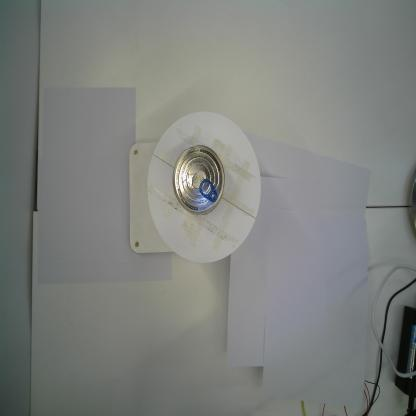Canned Food: (171, 144, 227, 217)
